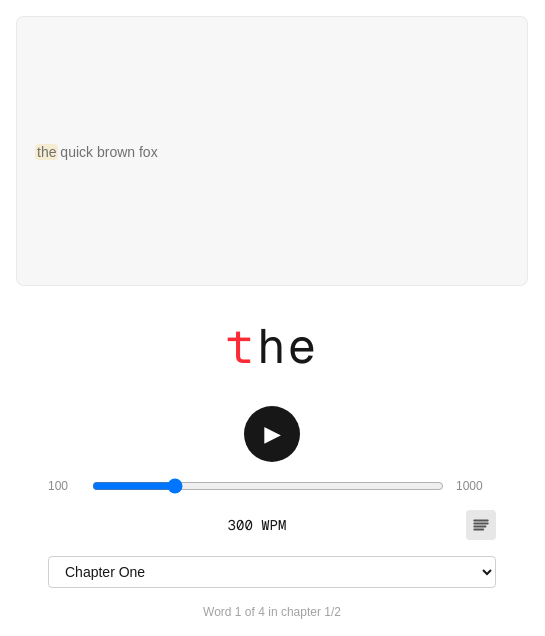
Scenario: Reader › toggles to pause on play click
What coordinates should you click on to do the following:
click the button named "Play"
I would click on:
 (272, 434)
Its box is [244, 406, 300, 462].
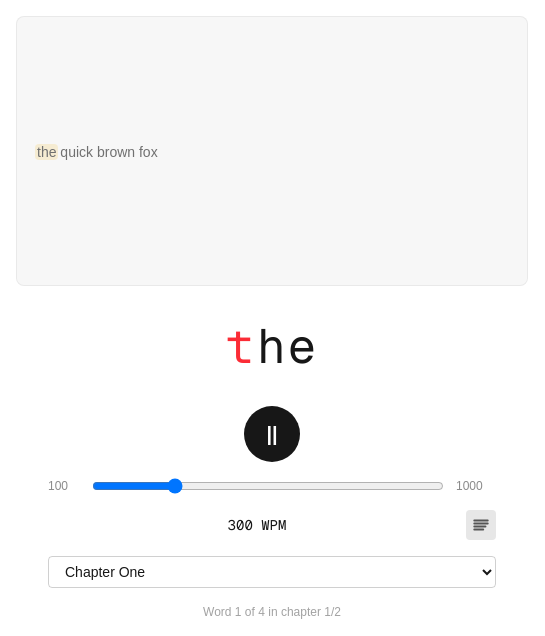
expect the button named "Pause" is shown: met, box [244, 406, 300, 462]
